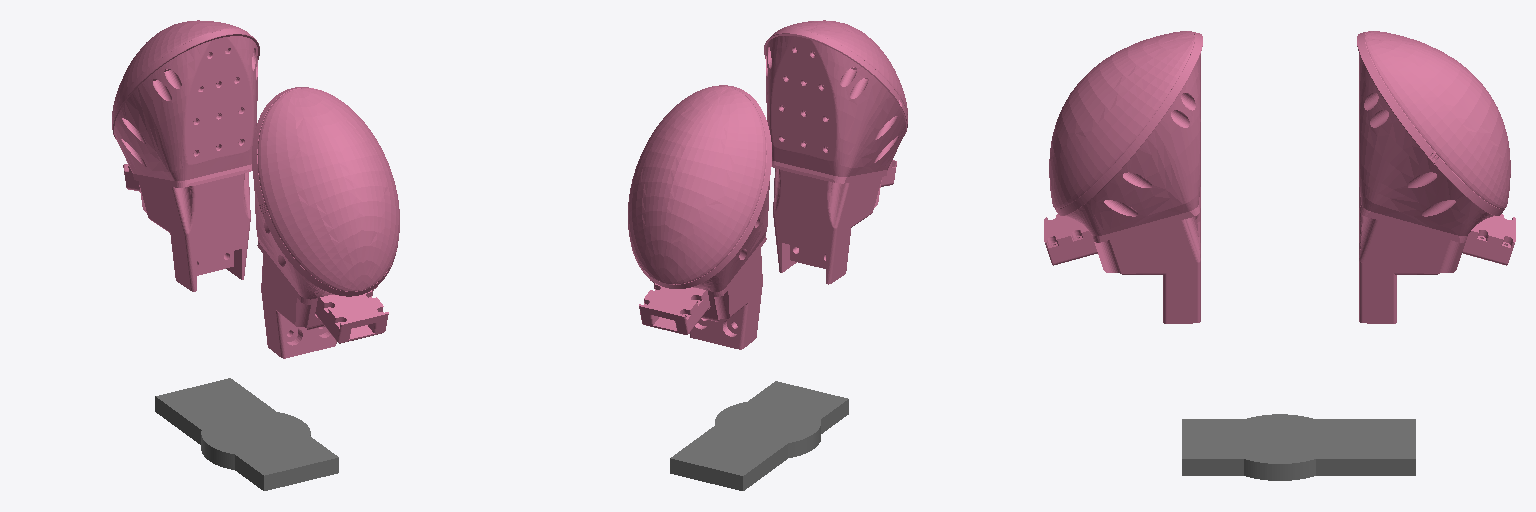
robot.urdf — float_wsg50:
<?xml version="1.0" ?>
<!-- =================================================================================== -->
<!-- |    This document was autogenerated by xacro from float_wsg50.xacro              | -->
<!-- |    EDITING THIS FILE BY HAND IS NOT RECOMMENDED                                 | -->
<!-- =================================================================================== -->
<robot name="float_wsg50" xmlns:controller="http://playerstage.sourceforge.net/gazebo/xmlschema/#controller" xmlns:interface="http://playerstage.sourceforge.net/gazebo/xmlschema/#interface" xmlns:sensor="http://playerstage.sourceforge.net/gazebo/xmlschema/#sensor">
  <material name="Black">
    <color rgba="0.0 0.0 0.0 1.0"/>
  </material>
  <material name="Blue">
    <color rgba="0.0 0.0 0.8 1.0"/>
  </material>
  <material name="Green">
    <color rgba="0.0 0.8 0.0 1.0"/>
  </material>
  <material name="Grey">
    <color rgba="0.4 0.4 0.4 1.0"/>
  </material>
  <material name="Orange">
    <color rgba="1.0 0.4235294117647059 0.0392156862745098 1.0"/>
  </material>
  <material name="Brown">
    <color rgba="0.8705882352941177 0.8117647058823529 0.7647058823529411 1.0"/>
  </material>
  <material name="Red">
    <color rgba="0.8 0.0 0.0 1.0"/>
  </material>
  <material name="White">
    <color rgba="1.0 1.0 1.0 1.0"/>
  </material>
  <material name="LightGrey">
    <color rgba="0.7 0.7 0.7 1"/>
  </material>
  <material name="DarkGray">
    <color rgba="0.2 0.2 0.2 1"/>
  </material>
  <material name="DarkDarkGray">
    <color rgba="0.1 0.1 0.1 1"/>
  </material>
  <!-- Make a base link. -->
  <link name="world" type="fixed">
    <inertial>
      <mass value="0"/>
      <inertia ixx="0" ixy="0" ixz="0" iyy="0" iyz="0" izz="0"/>
    </inertial>
  </link>
  <joint name="wsg50_plate_joint" type="fixed">
    <origin rpy="0 0 -1.5708" xyz="0 0 0"/>
    <!-- <origin xyz="0 0 0" rpy="0 0 -1.5708"/> -->
    <parent link="world"/>
    <child link="wsg50_plate"/>
  </joint>
  <!-- GRIPPER PLATE -->
  <link name="wsg50_plate">
    <inertial>
      <mass value="0.0"/>
      <!-- This is not the true mass -->
      <origin xyz="0 0 0"/>
      <inertia ixx="1.0" ixy="0.0" ixz="0.0" iyy="1.0" iyz="0.0" izz="1.0"/>
      <!-- This are not the true inertia -->
    </inertial>
    <visual>
      <origin rpy="0 0 0" xyz="0.0 0 0"/>
      <geometry>
        <mesh filename="package://meshes/wsg50/wsg50_plate.stl" scale="1 1 1"/>
        <!--box size="0.146 0.05 0.0735"/-->
      </geometry>
      <material name="grey">
        <color rgba="0.5 0.5 0.5 1"/>
      </material>
    </visual>
    <collision>
      <origin rpy="0 0 0" xyz="0.0 0 0"/>
      <geometry>
        <!--box size="0.146 0.05 0.0735"/-->
        <mesh filename="package://meshes/wsg50/wsg50_plate.stl" scale="1 1 1"/>
      </geometry>
    </collision>
  </link>
  <gazebo reference="wsg50_plate">
    <material>Gazebo/Grey</material>
    <turnGravityOff>false</turnGravityOff>
  </gazebo>
  <!-- GRIPPER -->
  <joint name="wsg50_anterior_gripper_joint" type="fixed">
    <origin rpy="0 0 0" xyz="0 0 0.01"/>
    <!-- <origin xyz="0 0 0" rpy="0 0 -1.5708"/> -->
    <parent link="wsg50_plate"/>
    <child link="wsg50_base_link"/>
  </joint>
  <!-- BASE LINK -->
  <link name="wsg50_base_link">
    <inertial>
      <mass value="1.48"/>
      <origin xyz="0.00363 -0.00829 0.015"/>
      <!--inertia ixx="1.0" ixy="0.0" ixz="0.0"
                    iyy="100.0" iyz="0.0"
                    izz="1.0" /-->
      <inertia ixx="0.0" ixy="0.0" ixz="0.0" iyy="0.0" iyz="0.0" izz="0.0"/>
    </inertial>
    <visual>
      <origin rpy="0 0 0" xyz="0.0 0 0"/>
      <geometry>
        <mesh filename="package://meshes/wsg50/WSG50_110.stl" scale="1 1 1"/>
        <!--box size="0.146 0.05 0.0735"/-->
      </geometry>
      <material name="grey">
        <color rgba="0.5 0.5 0.5 1"/>
      </material>
    </visual>
    <collision>
      <origin rpy="0 0 0" xyz="0.0 0 0"/>
      <geometry>
        <!--box size="0.146 0.05 0.0735"/-->
        <mesh filename="package://meshes/wsg50/WSG50_110.stl" scale="1 1 1"/>
      </geometry>
    </collision>
  </link>
  <gazebo reference="wsg50_base_link">
    <material>Gazebo/Grey</material>
    <turnGravityOff>false</turnGravityOff>
  </gazebo>
  <joint name="wsg50_center_joint" type="fixed">
    <origin rpy="0 0 0" xyz="0 0 0.023"/>
    <!--origin xyz="-0.0067 0 0.049" rpy="0 0 0" /-->
    <parent link="wsg50_base_link"/>
    <child link="wsg50_center"/>
  </joint>
  <link name="wsg50_center">
    <inertial>
      <mass value="0"/>
      <inertia ixx="0" ixy="0" ixz="0" iyy="0" iyz="0" izz="0"/>
    </inertial>
  </link>
  <!-- GRIPPER LEFT -->
  <joint name="wsg50_finger_left_joint" type="prismatic">
    <limit effort="1.0" lower="-0.055" upper="-0.03" velocity="1.0"/>
    <origin rpy="0 0 0" xyz="0 0 0"/>
    <!--origin xyz="-0.0067 0 0.049" rpy="0 0 0" /-->
    <parent link="wsg50_base_link"/>
    <child link="wsg50_gripper_left"/>
    <dynamics damping="100" friction="100"/>
    <axis xyz="1 0 0"/>
  </joint>
  <transmission name="wsg50_base_trans_left">
    <type>transmission_interface/SimpleTransmission</type>
    <actuator name="wsg50_base_motor_left">
      <mechanicalReduction>1</mechanicalReduction>
    </actuator>
    <joint name="wsg50_finger_left_joint">
      <hardwareInterface>hardware_interface/PositionJointInterface</hardwareInterface>
    </joint>
  </transmission>
  <link name="wsg50_gripper_left">
    <inertial>
      <mass value="0.1"/>
      <origin xyz="0 0 0"/>
      <inertia ixx="1.0" ixy="0.0" ixz="0.0" iyy="1.0" iyz="0.0" izz="1.0"/>
    </inertial>
    <visual>
      <origin rpy="0 0 0" xyz="0.0 0 0"/>
      <geometry>
        <mesh filename="package://meshes/wsg50/GUIDE_WSG50_110.stl" scale="0.001 0.001 0.001"/>
        <!--box size="0.0175 0.03 0.024"/-->
      </geometry>
      <material name="black">
        <color rgba="0 0 0 1"/>
      </material>
    </visual>
    <collision>
      <origin rpy="0 0 0" xyz="0 0 0"/>
      <geometry>
        <!--box size="0.0175 0.03 0.024"/-->
        <mesh filename="package://meshes/wsg50/GUIDE_WSG50_110.stl" scale="0.001 0.001 0.001"/>
      </geometry>
    </collision>
    <contact_coefficients kd="1.0" kp="1000.0" mu="0"/>
  </link>
  <gazebo reference="wsg50_gripper_left">
    <material>Gazebo/Blue</material>
    <turnGravityOff>false</turnGravityOff>
  </gazebo>
  <!-- GRIPPER RIGHT -->
  <joint name="wsg50_finger_right_joint" type="prismatic">
    <limit effort="1.0" lower="0.03" upper="0.055" velocity="1.0"/>
    <origin rpy="0 0 3.14159" xyz="0 0 0"/>
    <parent link="wsg50_base_link"/>
    <child link="wsg50_gripper_right"/>
    <axis xyz="-1 0 0"/>
    <dynamics damping="100" friction="100"/>
  </joint>
  <transmission name="wsg50_base_trans_right">
    <type>transmission_interface/SimpleTransmission</type>
    <actuator name="wsg50_base_motor_right">
      <mechanicalReduction>1</mechanicalReduction>
    </actuator>
    <joint name="wsg50_finger_right_joint">
      <hardwareInterface>hardware_interface/PositionJointInterface</hardwareInterface>
    </joint>
  </transmission>
  <link name="wsg50_gripper_right">
    <inertial>
      <mass value="0.1"/>
      <origin xyz="0 0 0"/>
      <inertia ixx="1.0" ixy="0.0" ixz="0.0" iyy="1.0" iyz="0.0" izz="1.0"/>
    </inertial>
    <visual>
      <origin rpy="0 0 0" xyz="0.0 0 0"/>
      <geometry>
        <mesh filename="package://meshes/wsg50/GUIDE_WSG50_110.stl" scale="0.001 0.001 0.001"/>
        <!--box size="0.0175 0.03 0.024"/-->
      </geometry>
      <material name="black">
        <color rgba="0 0 0 1"/>
      </material>
    </visual>
    <collision>
      <origin rpy="0 0 0" xyz="0 0 0"/>
      <geometry>
        <!--box size="0.0175 0.03 0.024"/-->
        <mesh filename="package://meshes/wsg50/GUIDE_WSG50_110.stl" scale="0.001 0.001 0.001"/>
      </geometry>
    </collision>
    <contact_coefficients kd="1.0" kp="1000.0" mu="0"/>
  </link>
  <gazebo reference="gripper_right">
    <material>Gazebo/White</material>
    <turnGravityOff>false</turnGravityOff>
  </gazebo>
  <!--  ~~~~~~~~~~~~~~~~~~~~~~~~~~~~~~~~~~~~~~~~~~~~~~~~~~~~~~~~~~~~~~~~~~~~~~~~~~~~~~~~~~~~~~~      -->
  <!--  ~~~~~~~~ FINGERS ~~~~~~~~~~~~~~~~~~~~~~~~~~~~~~~~~~~~~~~~~~~~~~~~~~~~~~~~~~~~~~~~~~~~~~      -->
  <!--  ~~~~~~~~~~~~~~~~~~~~~~~~~~~~~~~~~~~~~~~~~~~~~~~~~~~~~~~~~~~~~~~~~~~~~~~~~~~~~~~~~~~~~~~      -->
  <!-- Flipped Bubbles -->
  <!-- LEFT FINGER -->
  <joint name="wsg50_guide_joint_finger_left" type="fixed">
    <origin rpy="0 0 0" xyz="-0.009 0 .089"/>
    <parent link="wsg50_gripper_left"/>
    <child link="wsg50_finger_left"/>
    <dynamics damping="100" friction="100"/>
    <axis xyz="1 0 0"/>
    <limit effort="100" velocity="100"/>
  </joint>
  <link name="wsg50_finger_left">
    <inertial>
      <mass value="0.1"/>
      <origin xyz="0 0 0"/>
      <inertia ixx="1.0" ixy="0.0" ixz="0.0" iyy="1.0" iyz="0.0" izz="1.0"/>
    </inertial>
    <visual>
      <origin rpy="0 -1.8661 0" xyz="-0.0252755 0 0.0434163"/>
      <geometry>
        <mesh filename="package://meshes/bubbles/collision/bubble_flipped_inflated.stl" scale="0.001 0.001 0.001"/>
      </geometry>
      <material name="pastel">
        <color rgba="0.8588 0.5255 0.6588 1"/>
      </material>
    </visual>
    <collision>
      <origin rpy="0 -1.8661 0" xyz="-0.0252755 0 0.0434163"/>
      <geometry>
        <mesh filename="package://meshes/bubbles/collision/bubble_flipped_inflated.stl" scale="0.001 0.001 0.001"/>
      </geometry>
    </collision>
    <contact_coefficients kd="1.0" kp="1000.0" mu="0"/>
  </link>
  <!-- LEFT CAMERA FRAME -->
  <joint name="wsg50_left_bubble_camera_frame_fake_joint" type="fixed">
    <origin rpy="0 -1.8661 0" xyz="-0.0252755 0 0.0434163"/>
    <parent link="wsg50_finger_left"/>
    <child link="left_bubble_camera_frame"/>
  </joint>
  <link name="left_bubble_camera_frame">
    <inertial>
      <mass value="0.0"/>
      <origin xyz="0 0 0"/>
      <inertia ixx="0.0" ixy="0.0" ixz="0.0" iyy="0.0" iyz="0.0" izz="0.0"/>
    </inertial>
  </link>
  <!-- RIGHT FINGER -->
  <joint name="wsg50_guide_joint_finger_right" type="fixed">
    <origin rpy="0 0 0" xyz="-0.009 0 .089"/>
    <parent link="wsg50_gripper_right"/>
    <child link="wsg50_finger_right"/>
    <dynamics damping="100" friction="100"/>
    <axis xyz="1 0 0"/>
    <limit effort="100" velocity="100"/>
  </joint>
  <link name="wsg50_finger_right">
    <inertial>
      <mass value="0.1"/>
      <origin xyz="0 0 0"/>
      <inertia ixx="1.0" ixy="0.0" ixz="0.0" iyy="1.0" iyz="0.0" izz="1.0"/>
    </inertial>
    <visual>
      <origin rpy="0 -1.8661 0" xyz="-0.0252755 0 0.0434163"/>
      <geometry>
        <mesh filename="package://meshes/bubbles/collision/bubble_flipped_inflated.stl" scale="0.001 0.001 0.001"/>
      </geometry>
      <material name="pastel">
        <color rgba="0.8588 0.5255 0.6588 1"/>
      </material>
    </visual>
    <collision>
      <origin rpy="0 -1.8661 0" xyz="-0.0252755 0 0.0434163"/>
      <geometry>
        <mesh filename="package://meshes/bubbles/visual/bubble_flipped_inflated.stl" scale="0.001 0.001 0.001"/>
      </geometry>
    </collision>
    <contact_coefficients kd="1.0" kp="1000.0" mu="0"/>
    <contact_coefficients kd="1.0" kp="1000.0" mu="0"/>
  </link>
  <!-- RIGHT CAMERA FRAME -->
  <joint name="wsg50_right_bubble_camera_frame_fake_joint" type="fixed">
    <origin rpy="0 -1.8661 0" xyz="-0.0252755 0 0.0434163"/>
    <parent link="wsg50_finger_right"/>
    <child link="right_bubble_camera_frame"/>
  </joint>
  <link name="right_bubble_camera_frame">
    <inertial>
      <mass value="0.0"/>
      <origin xyz="0 0 0"/>
      <inertia ixx="0.0" ixy="0.0" ixz="0.0" iyy="0.0" iyz="0.0" izz="0.0"/>
    </inertial>
  </link>
  <!--  ==================================  END OF FINGER SELECTION  ==================================  -->
  <gazebo reference="wsg50_finger_left">
    <material>Gazebo/Blue</material>
    <turnGravityOff>false</turnGravityOff>
  </gazebo>
  <gazebo reference="wsg50_finger_right">
    <material>Gazebo/White</material>
    <turnGravityOff>false</turnGravityOff>
  </gazebo>
  <!-- GRASP FRAME -->
  <joint name="wsg50_grasp_frame_fake_joint" type="fixed">
    <!-- <origin xyz="0 0 0" rpy="0 0 -1.5708"/> -->
    <parent link="wsg50_base_link"/>
    <child link="grasp_frame"/>
  </joint>
  <link name="grasp_frame">
    <inertial>
      <mass value="0.0"/>
      <origin xyz="0 0 0"/>
      <inertia ixx="0.0" ixy="0.0" ixz="0.0" iyy="0.0" iyz="0.0" izz="0.0"/>
    </inertial>
  </link>
  <!-- RIGHT FINGER TIP FRAME -->
  <joint name="wsg50_right_finger_tip_fake_joint" type="fixed">
    <origin rpy="0 0 3.14159" xyz="0 0 0.121"/>
    <!-- May be worth considering the parameter finger_tip-->
    <!-- <origin xyz="0 0 0" rpy="0 0 -1.5708"/> -->
    <parent link="wsg50_finger_right"/>
    <child link="wsg50_finger_right_tip"/>
  </joint>
  <link name="wsg50_finger_right_tip">
    <inertial>
      <mass value="0.0"/>
      <origin xyz="0 0 0"/>
      <inertia ixx="0.0" ixy="0.0" ixz="0.0" iyy="0.0" iyz="0.0" izz="0.0"/>
    </inertial>
  </link>
  <!-- LEFT FINGER TIP FRAME -->
  <joint name="wsg50_left_finger_tip_fake_joint" type="fixed">
    <origin rpy="0 0 0" xyz="0 0 0.121"/>
    <!-- May be worth considering the parameter finger_tip-->
    <!-- <origin xyz="0 0 0" rpy="0 0 -1.5708"/> -->
    <parent link="wsg50_finger_left"/>
    <child link="wsg50_finger_left_tip"/>
  </joint>
  <link name="wsg50_finger_left_tip">
    <inertial>
      <mass value="0.0"/>
      <origin xyz="0 0 0"/>
      <inertia ixx="0.0" ixy="0.0" ixz="0.0" iyy="0.0" iyz="0.0" izz="0.0"/>
    </inertial>
  </link>
</robot>

--- Render facts (derived) ---
3 views of the same robot in one strip: view 1: azimuth 30°, elevation 25°; view 2: azimuth 150°, elevation 25°; view 3: azimuth 270°, elevation 25° (orthographic).
Robot: float_wsg50 — 13 links, 12 joints (2 prismatic, 10 fixed); root link world; default pose: all joints at 0 but 2 set to mid-range because 0 is outside their limits (wsg50_finger_left_joint = -0.0425, wsg50_finger_right_joint = 0.0425).
Links seen in each view (by area): view 1: wsg50_finger_right, wsg50_finger_left, wsg50_plate; view 2: wsg50_finger_left, wsg50_finger_right, wsg50_plate; view 3: wsg50_finger_right, wsg50_finger_left, wsg50_plate.
Link boxes in pixels (x1,y1,x2,y2): wsg50_finger_right: (252, 87, 399, 358); wsg50_finger_left: (112, 20, 259, 291); wsg50_plate: (155, 378, 338, 490); wsg50_finger_left: (628, 85, 771, 349); wsg50_finger_right: (764, 20, 907, 284); wsg50_plate: (670, 381, 848, 490); wsg50_finger_right: (1044, 31, 1202, 323); wsg50_finger_left: (1357, 31, 1515, 323); wsg50_plate: (1182, 414, 1415, 480).
Size in the robot's own frame: 0.0871 by 0.252 by 0.247 metres.
Meshes: 4 distinct files referenced, 3 mesh visuals loaded (2 binary STL); not drawn: 3 (reference not matched to a file when rendering).